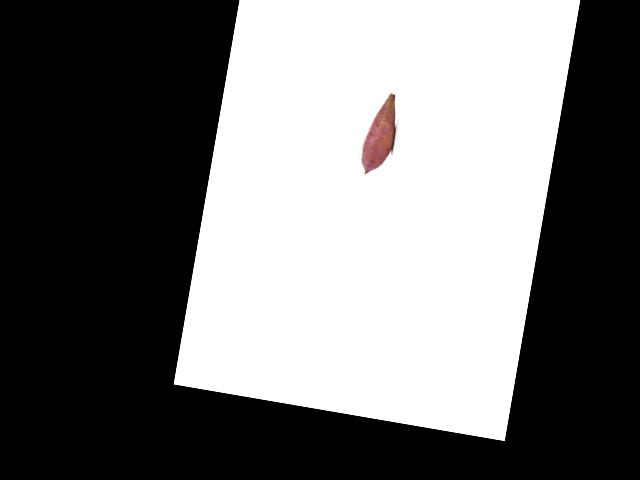sweet_potato: (358, 90, 399, 178)
